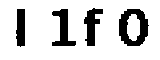0: (112, 5, 150, 51)
1: (44, 5, 78, 49)
f: (82, 6, 105, 50)
l: (15, 3, 34, 48)
